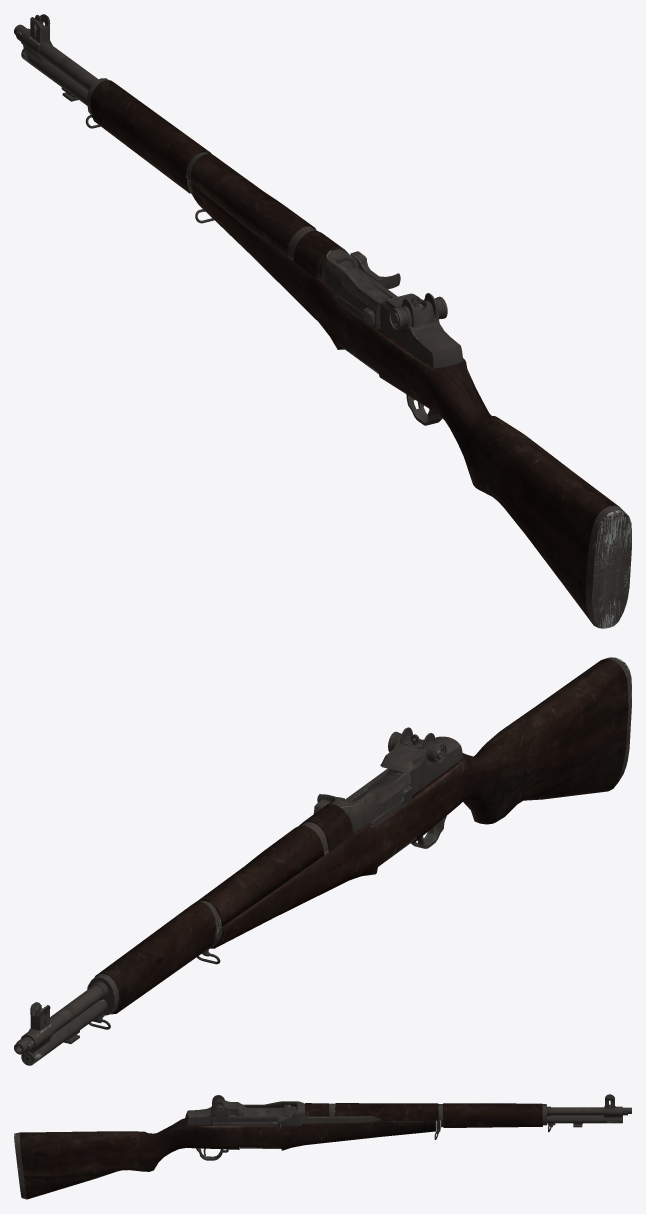
The model's file is m1-garand.glb.
3 views of the same model, one above another, from view 1: azimuth 30°, elevation 25°; view 2: azimuth 150°, elevation 25°; view 3: azimuth 270°, elevation 25° (orthographic). The views are drawn at different scales.
Visible parts, largest first — view 1: Bolt.001_Mesh.000_Wood.002_Bolt.001_Mesh.000_Wood.000_Wood.0, Bolt.001_Mesh.000_Metal.006; view 2: Bolt.001_Mesh.000_Wood.002_Bolt.001_Mesh.000_Wood.000_Wood.0, Bolt.001_Mesh.000_Metal.006; view 3: Bolt.001_Mesh.000_Wood.002_Bolt.001_Mesh.000_Wood.000_Wood.0, Bolt.001_Mesh.000_Metal.006.
Boxes of the visible parts, <box> form: Bolt.001_Mesh.000_Wood.002_Bolt.001_Mesh.000_Wood.000_Wood.0: <box>90,80,619,623</box>; Bolt.001_Mesh.000_Metal.006: <box>14,14,631,628</box>; Bolt.001_Mesh.000_Wood.002_Bolt.001_Mesh.000_Wood.000_Wood.0: <box>94,659,628,1014</box>; Bolt.001_Mesh.000_Metal.006: <box>14,657,631,1065</box>; Bolt.001_Mesh.000_Wood.002_Bolt.001_Mesh.000_Wood.000_Wood.0: <box>20,1103,542,1199</box>; Bolt.001_Mesh.000_Metal.006: <box>14,1094,631,1199</box>.
Size of the model in its own units: 53.69 by 157 by 853.
Materials: 2 (2 with a texture image).
